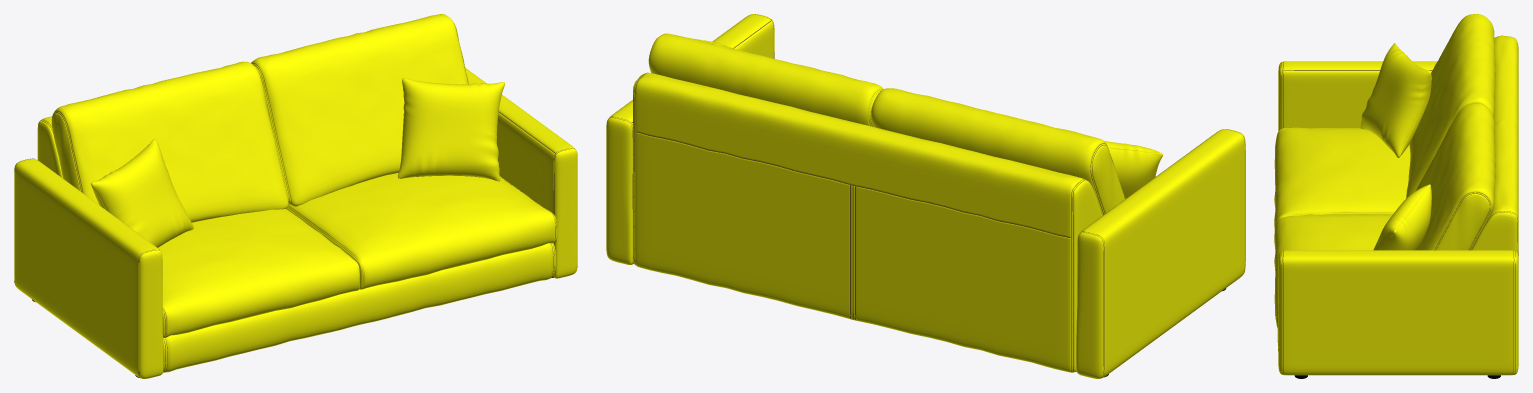
The picture shows the model from 3 angles, left to right: view 1: azimuth 30°, elevation 25°; view 2: azimuth 150°, elevation 25°; view 3: azimuth 270°, elevation 25°; orthographic projection. The views are drawn at different scales.
Visible parts, largest first — view 1: bodybrown53, leftarm53, rightarm53; view 2: bodybrown53, leftarm53, rightarm53; view 3: bodybrown53, rightarm53, leftarm53.
Boxes of the visible parts, x1,y1,x2,y2 form: bodybrown53: [37, 14, 557, 372]; leftarm53: [14, 158, 163, 378]; rightarm53: [465, 68, 577, 278]; bodybrown53: [633, 33, 1162, 372]; leftarm53: [1076, 129, 1245, 378]; rightarm53: [606, 14, 774, 264]; bodybrown53: [1274, 14, 1518, 351]; rightarm53: [1278, 250, 1518, 375]; leftarm53: [1278, 61, 1437, 130].
Size of the model in its own units: 1.8 by 0.7698 by 0.9321.
7 materials, 5 textured.
